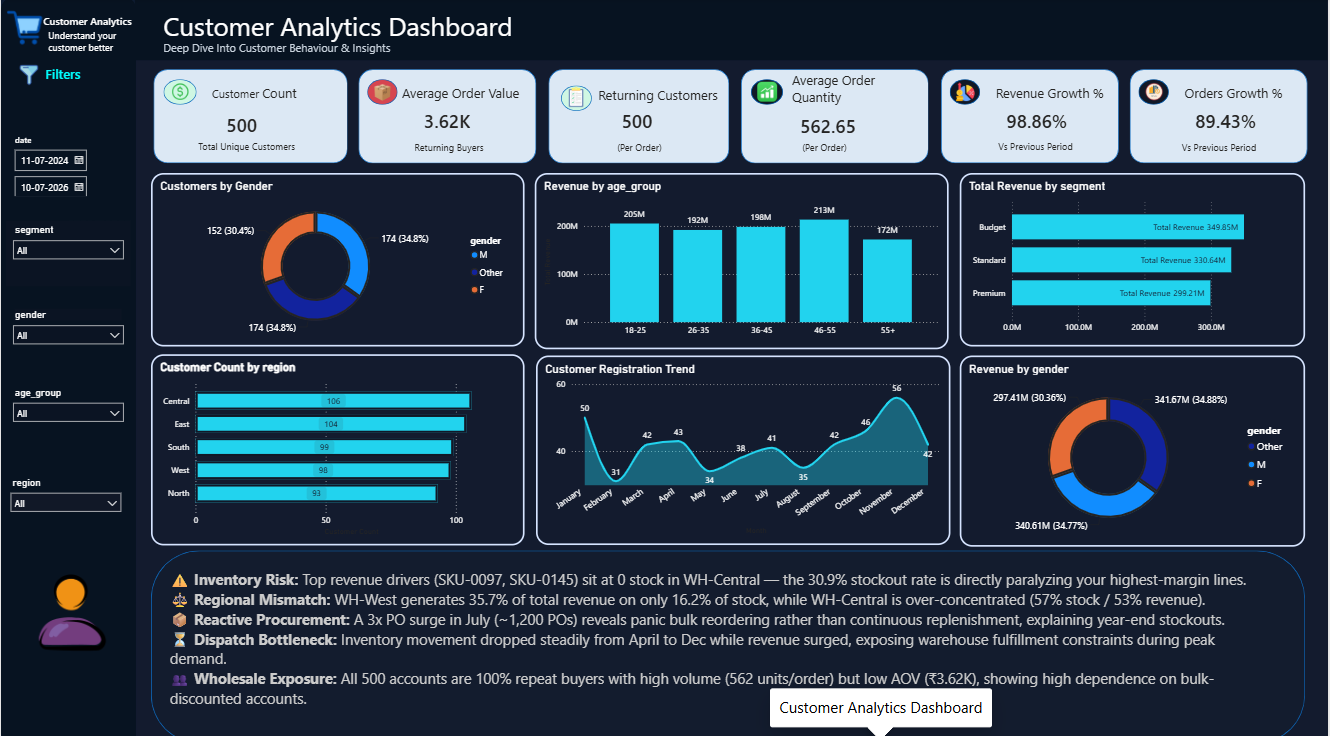

The dashboard page shown, as its layout file describes it:
{"tool":"powerbi","page":{"name":"Customer Analytics Dashboard","canvas":[1920,1080],"ordinal":3},"visuals":[{"type":"shape","box":[220.7,103.9,281,136],"z":0,"group":"g2"},{"type":"shape","box":[517.2,103.9,257.3,136.3],"z":0,"group":"g4"},{"type":"shape","box":[792.1,103.9,261.6,136.3],"z":0,"group":"g3"},{"type":"shape","box":[1071.3,103.9,271.6,136.3],"z":0,"group":"g5"},{"type":"shape","box":[1361.2,103.9,257.3,136],"z":0,"group":"g6"},{"type":"shape","box":[1633.9,103.9,257.3,136],"z":0,"group":"g7"},{"type":"shape","box":[216.4,800.7,1670.7,279.2],"z":0},{"type":"shape","box":[0,0,196,1080],"z":1000},{"type":"shape","box":[195,0,1725,90],"z":1000,"group":"g1"},{"type":"actionButton","box":[1,11.2,65,65.8],"z":2000},{"type":"textbox","box":[56.5,18.1,155,45],"z":3000},{"type":"textbox","box":[64.2,40,139.2,46.7],"z":4000},{"type":"textbox","box":[41.2,92.5,103.8,45],"z":5000},{"type":"textbox","box":[229.5,10,543.6,71.8],"z":6000,"group":"g1"},{"type":"image","box":[0,87.5,81.2,48.8],"z":6000},{"type":"textbox","box":[230,56,420,38],"z":7000,"group":"g1"},{"type":"slicer","fields":{"Values":["dim_customers.age_group"]},"box":[7.5,557.5,180,96.2],"z":7000},{"type":"slicer","fields":{"Values":["dim_customers.segment"]},"box":[7.5,322.5,180,95],"z":8000},{"type":"shape","box":[235.1,118.1,47.9,36.8],"z":9000,"group":"g2"},{"type":"shape","box":[1085.2,118.1,46.3,36.9],"z":9000,"group":"g5"},{"type":"shape","box":[1374.4,118.1,43.9,36.8],"z":9000,"group":"g6"},{"type":"shape","box":[1647.1,118.1,43.9,36.8],"z":9000,"group":"g7"},{"type":"shape","box":[530.4,118.2,43.9,36.9],"z":9000,"group":"g4"},{"type":"shape","box":[810.4,126.5,44.6,36.9],"z":9000,"group":"g3"},{"type":"slicer","fields":{"Values":["dim_customers.gender"]},"box":[7.5,445,180,95],"z":9000},{"type":"image","box":[244.7,122.6,29.8,28.7],"z":10000,"group":"g2"},{"type":"image","box":[1094.5,122.6,28.8,28.8],"z":10000,"group":"g5"},{"type":"image","box":[1383.2,122.6,27.3,28.7],"z":10000,"group":"g6"},{"type":"image","box":[1655.9,122.6,27.3,28.7],"z":10000,"group":"g7"},{"type":"image","box":[539.2,122.7,27.3,28.8],"z":10000,"group":"g4"},{"type":"image","box":[812.1,127,40.3,33.3],"z":10000,"group":"g3"},{"type":"slicer","fields":{"Values":["dim_customers.region"]},"box":[3.8,687.5,180,95],"z":10000},{"type":"textbox","box":[1140,102,190.4,64.9],"z":11000,"group":"g5"},{"type":"textbox","box":[575.1,119.3,186.1,49.8],"z":11000,"group":"g4"},{"type":"textbox","box":[1435.4,120.7,168,46.9],"z":11000,"group":"g6"},{"type":"textbox","box":[301.1,120.8,167.1,42.2],"z":11000,"group":"g2"},{"type":"textbox","box":[1707.5,120.8,153,42.2],"z":11000,"group":"g7"},{"type":"textbox","box":[859.5,124.5,212.5,43.7],"z":11000,"group":"g3"},{"type":"slicer","fields":{"Values":["dim_date.date"]},"box":[7.5,191.2,180,95],"z":11000},{"type":"shape","box":[194.3,0,1725.7,90],"z":12000},{"type":"cardVisual","fields":{"Data":["Measures (2).Revenue Growth %"]},"box":[1438.5,141.7,203.7,69.1],"z":12000,"group":"g6"},{"type":"cardVisual","fields":{"Data":["Measures (2).Orders Growth %"]},"box":[1711.2,141.7,203.7,69.1],"z":12000,"group":"g7"},{"type":"cardVisual","fields":{"Data":["Measures (2).Average Order Value"]},"box":[594.5,141.8,203.7,69.3],"z":12000,"group":"g4"},{"type":"cardVisual","fields":{"Data":["Measures (2).Customer Count"]},"box":[309.2,150.3,169.8,63.7],"z":12000,"group":"g2"},{"type":"cardVisual","fields":{"Data":["Measures (2).Returning Customers"]},"box":[886.1,154.8,90.5,45.2],"z":12000,"group":"g3"},{"type":"cardVisual","fields":{"Data":["Measures (2).Average Order Quantity"]},"box":[1140,164.7,140.7,39],"z":12000,"group":"g5"},{"type":"textbox","box":[202.9,62.9,420,38.6],"z":13000},{"type":"textbox","box":[245.1,201.5,222.9,36.8],"z":13008,"group":"g2"},{"type":"group","id":"g1","title":"Group 2","box":[195,0,1725,94],"z":14000},{"type":"group","id":"g2","title":"Group 1","box":[220.7,103.9,281,136],"z":15000},{"type":"group","id":"g3","title":"Group 1","box":[792.1,103.9,279.9,136.3],"z":16000},{"type":"group","id":"g4","title":"Group 1","box":[517.2,103.9,281,136.3],"z":17000},{"type":"group","id":"g5","title":"Group 1","box":[1071.3,102,271.6,138.1],"z":18000},{"type":"group","id":"g6","title":"Group 1","box":[1361.2,103.9,281.3,136.3],"z":19000},{"type":"group","id":"g7","title":"Group 1","box":[1633.9,103.9,281.3,136.3],"z":20000},{"type":"textbox","box":[567,203.4,164.5,36.8],"z":21000},{"type":"textbox","box":[805.1,203.4,238.1,32.5],"z":22000},{"type":"textbox","box":[1413.2,201.3,168.8,34.6],"z":23000},{"type":"textbox","box":[1685.9,203.4,153.7,32.5],"z":24000},{"type":"donutChart","title":"Customers by Gender","fields":{"Category":["dim_customers.gender"],"Y":["Measures (2).Customer Count"]},"box":[216.4,253.2,541,251],"z":25000},{"type":"clusteredColumnChart","title":"Revenue by age_group","fields":{"Category":["dim_customers.age_group"],"Y":["Measures (2).Total Revenue"]},"box":[772.6,253.2,599.5,255.4],"z":26000},{"type":"donutChart","title":"Revenue by gender","fields":{"Category":["dim_customers.gender"],"Y":["Measures (2).Total Revenue"]},"box":[1387.2,517.2,499.9,277],"z":27000},{"type":"clusteredBarChart","fields":{"Category":["dim_customers.segment"],"Y":["Measures (2).Total Revenue"]},"box":[1387.2,253.2,499.9,251],"z":28000},{"type":"clusteredBarChart","fields":{"Category":["dim_customers.region"],"Y":["Measures (2).Customer Count"]},"box":[216.4,515.1,541,277],"z":29000},{"type":"lineChart","title":"Customer Registration Trend","fields":{"Category":["dim_customers.registration_date.Variation.Date Hierarchy.Month"],"Y":["Measures (2).Customer Count"]},"box":[774.8,517.2,600,274],"z":30000},{"type":"textbox","box":[244.5,822.4,1595,231.6],"z":31000},{"type":"textbox","box":[1095.1,203.4,194.8,32.5],"z":32000},{"type":"image","box":[18,822,158,138],"z":32001}]}

Visuals, with their boxes in screenshot pixels (x1, y1, x2, y2), scaled from the page's 1920x1080 canvas onto the 1330x736 screenshot:
shape: <box>153,71,348,163</box>
shape: <box>358,71,537,164</box>
shape: <box>549,71,730,164</box>
shape: <box>742,71,930,164</box>
shape: <box>943,71,1121,163</box>
shape: <box>1132,71,1310,163</box>
shape: <box>150,546,1307,735</box>
shape: <box>0,0,136,735</box>
shape: <box>135,0,1329,61</box>
actionButton: <box>1,8,46,52</box>
textbox: <box>39,12,147,43</box>
textbox: <box>44,27,141,59</box>
textbox: <box>29,63,100,94</box>
textbox: <box>159,7,536,56</box>
image: <box>0,60,56,93</box>
textbox: <box>159,38,450,64</box>
slicer - dim_customers.age_group: <box>5,380,130,445</box>
slicer - dim_customers.segment: <box>5,220,130,285</box>
shape: <box>163,80,196,106</box>
shape: <box>752,80,784,106</box>
shape: <box>952,80,982,106</box>
shape: <box>1141,80,1171,106</box>
shape: <box>367,81,398,106</box>
shape: <box>561,86,592,111</box>
slicer - dim_customers.gender: <box>5,303,130,368</box>
image: <box>170,84,190,103</box>
image: <box>758,84,778,103</box>
image: <box>958,84,977,103</box>
image: <box>1147,84,1166,103</box>
image: <box>374,84,392,103</box>
image: <box>563,87,590,109</box>
slicer - dim_customers.region: <box>3,469,127,533</box>
textbox: <box>790,70,922,114</box>
textbox: <box>398,81,527,115</box>
textbox: <box>994,82,1111,114</box>
textbox: <box>209,82,324,111</box>
textbox: <box>1183,82,1289,111</box>
textbox: <box>595,85,743,115</box>
slicer - dim_date.date: <box>5,130,130,195</box>
shape: <box>135,0,1329,61</box>
cardVisual - Measures (2).Revenue Growth %: <box>996,97,1138,144</box>
cardVisual - Measures (2).Orders Growth %: <box>1185,97,1326,144</box>
cardVisual - Measures (2).Average Order Value: <box>412,97,553,144</box>
cardVisual - Measures (2).Customer Count: <box>214,102,332,146</box>
cardVisual - Measures (2).Returning Customers: <box>614,105,676,136</box>
cardVisual - Measures (2).Average Order Quantity: <box>790,112,887,139</box>
textbox: <box>141,43,431,69</box>
textbox: <box>170,137,324,162</box>
"Group 2" group: <box>135,0,1329,64</box>
"Group 1" group: <box>153,71,348,163</box>
"Group 1" group: <box>549,71,743,164</box>
"Group 1" group: <box>358,71,553,164</box>
"Group 1" group: <box>742,70,930,164</box>
"Group 1" group: <box>943,71,1138,164</box>
"Group 1" group: <box>1132,71,1327,164</box>
textbox: <box>393,139,507,164</box>
textbox: <box>558,139,723,161</box>
textbox: <box>979,137,1096,161</box>
textbox: <box>1168,139,1274,161</box>
"Customers by Gender" donutChart: <box>150,173,525,344</box>
"Revenue by age_group" clusteredColumnChart: <box>535,173,950,347</box>
"Revenue by gender" donutChart: <box>961,352,1307,541</box>
clusteredBarChart - dim_customers.segment x Measures (2).Total Revenue: <box>961,173,1307,344</box>
clusteredBarChart - dim_customers.region x Measures (2).Customer Count: <box>150,351,525,540</box>
"Customer Registration Trend" lineChart: <box>537,352,952,539</box>
textbox: <box>169,560,1274,718</box>
textbox: <box>759,139,894,161</box>
image: <box>12,560,122,654</box>
